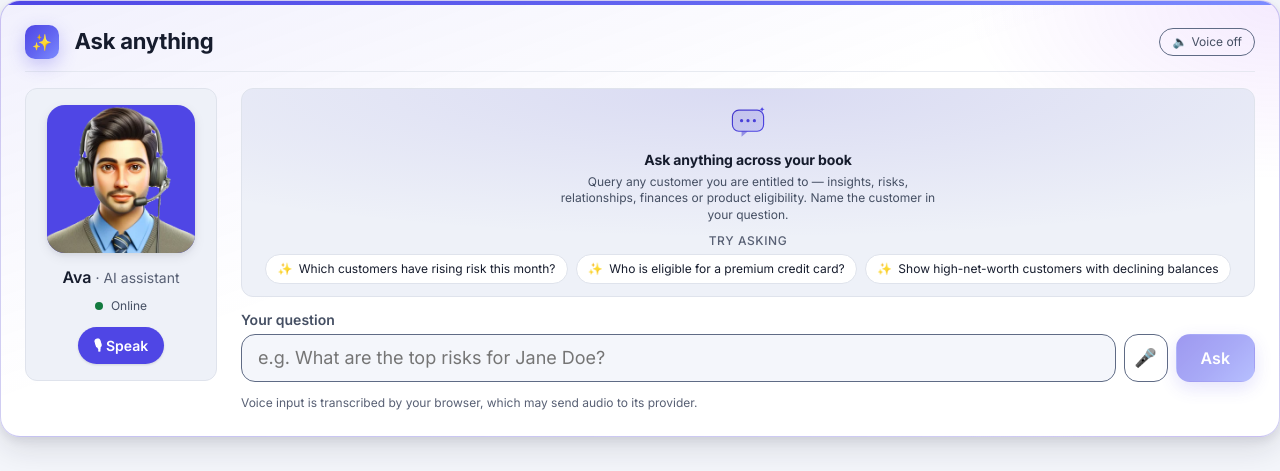
avatar rail › dictates from the rail Speak pill too
The image size is (1280, 471).
Click the button with aria-label "speak your question" at (121, 345), box [78,327,164,364]
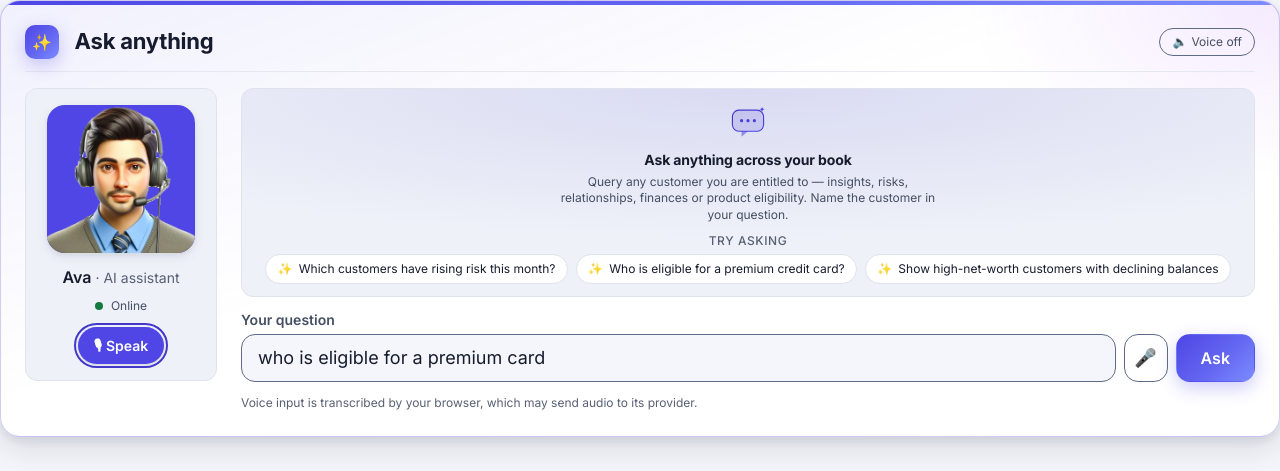
Result: the field labelled "Your question" holds "who is eligible for a premium card" at [241,334,1116,382]
